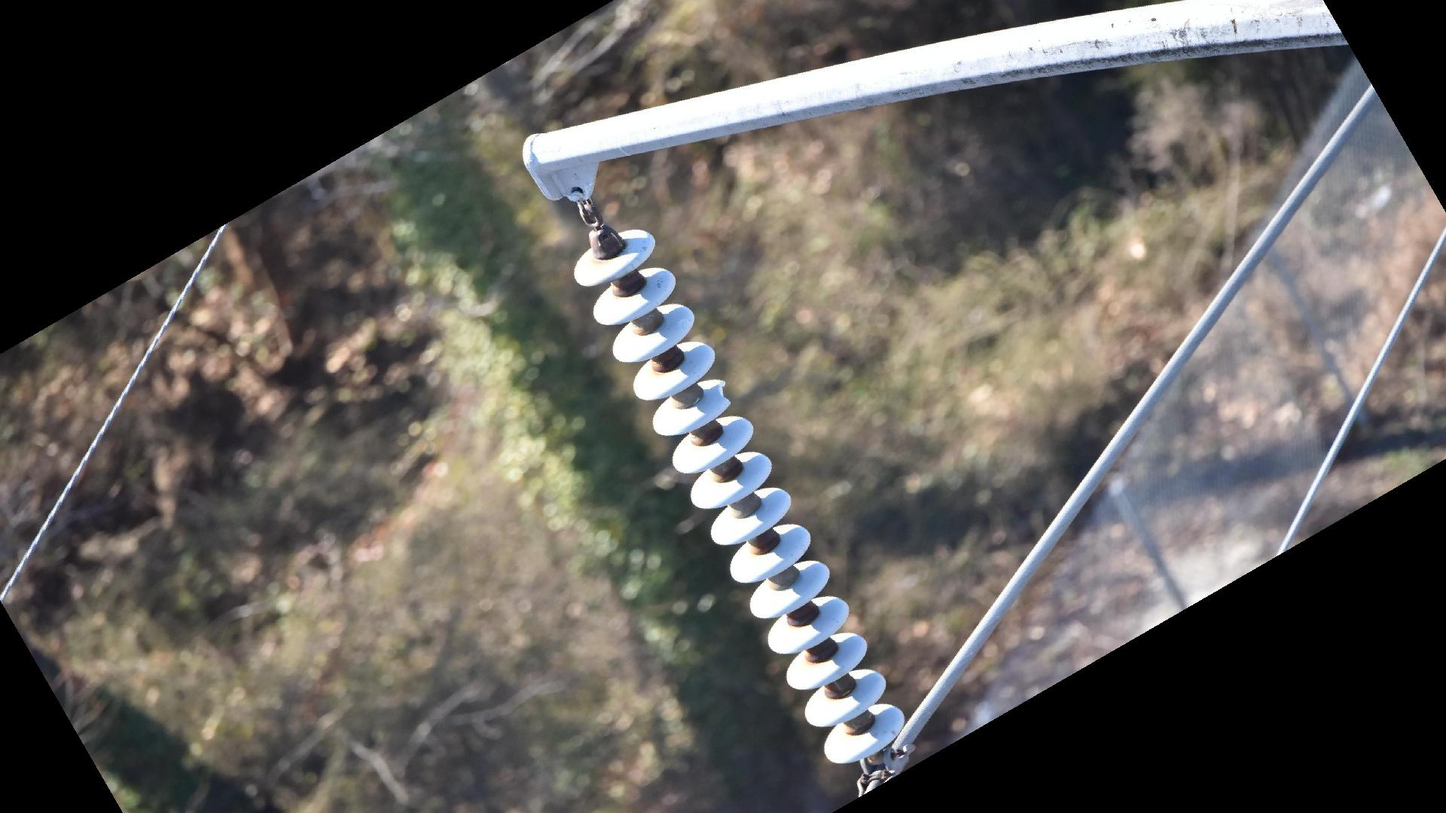insulator: (568, 223, 908, 773)
insulator_breakage: (711, 375, 734, 409)
